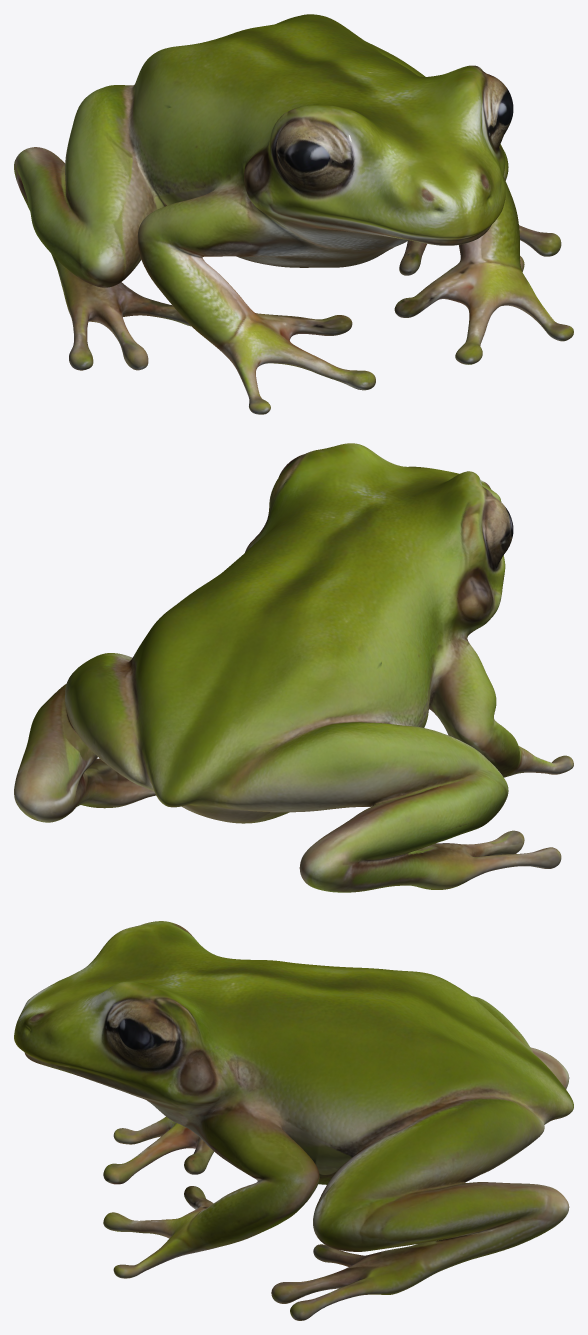
The model's file is jtreefrog_mesh.glb.
3 renders of one model, top to bottom at view 1: azimuth 30°, elevation 25°; view 2: azimuth 150°, elevation 25°; view 3: azimuth 270°, elevation 25°, orthographic. The views are drawn at different scales.
Bounding box in the file's own units: 1.85 × 1.04 × 2.
1 material, 1 textured.
